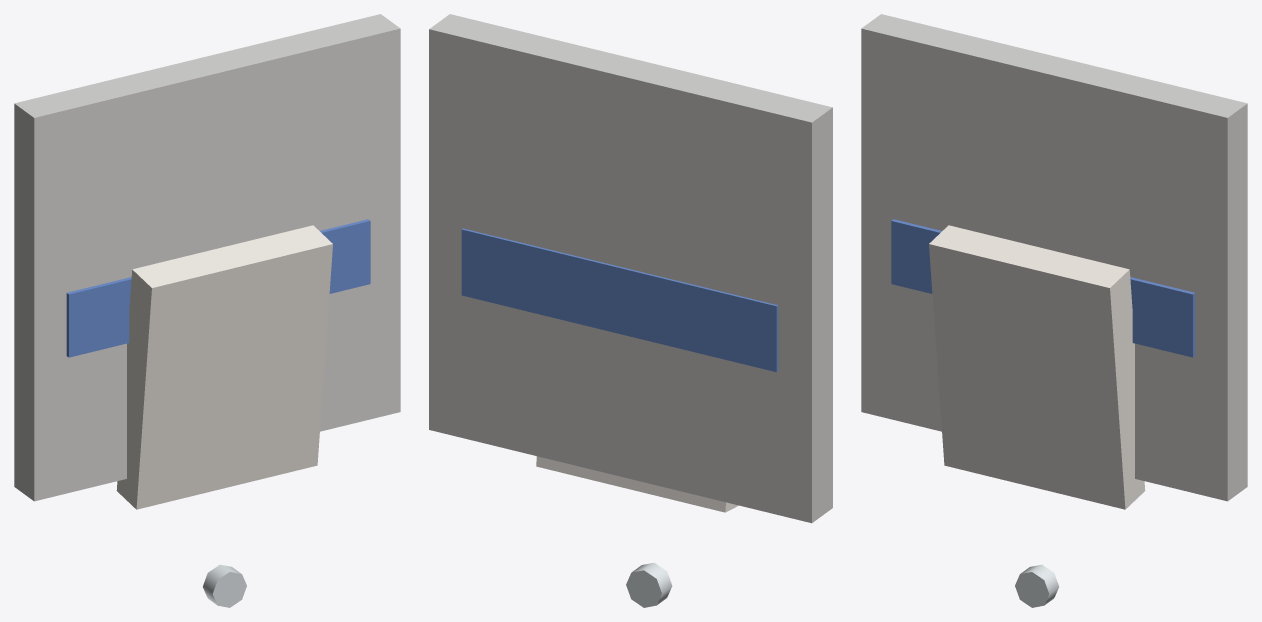
File: interrupteur.glb
3 renders of one model, left to right at view 1: azimuth 30°, elevation 25°; view 2: azimuth 150°, elevation 25°; view 3: azimuth 330°, elevation 25°, orthographic. The views are drawn at different scales.
Parts seen in each view (by area): view 1: interrupteur; view 2: interrupteur; view 3: interrupteur.
Part boxes in pixels (left/top/right/bottom): interrupteur: left=14, top=14, right=400, bottom=607; interrupteur: left=429, top=14, right=832, bottom=607; interrupteur: left=861, top=14, right=1247, bottom=607.
Bounding box in the file's own units: 0.085 × 0.1165 × 0.0186.
